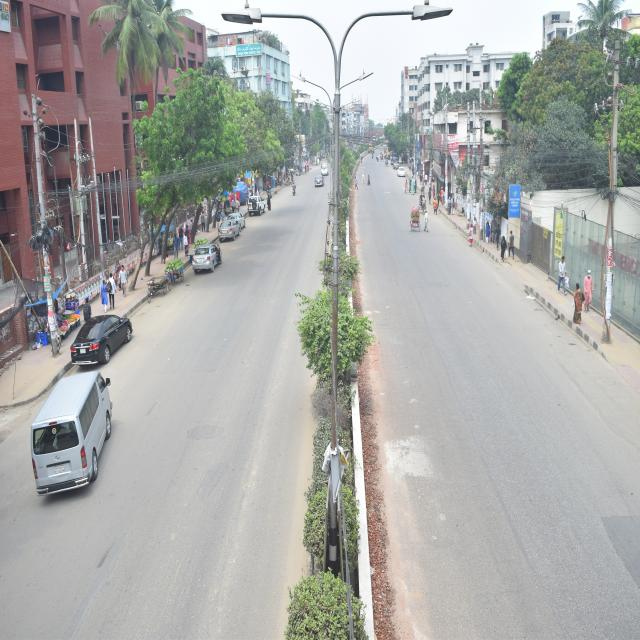car: (67, 311, 135, 365), (187, 242, 224, 274), (216, 216, 242, 246), (248, 190, 269, 219), (312, 172, 329, 193)
microbus: (26, 370, 115, 495)
